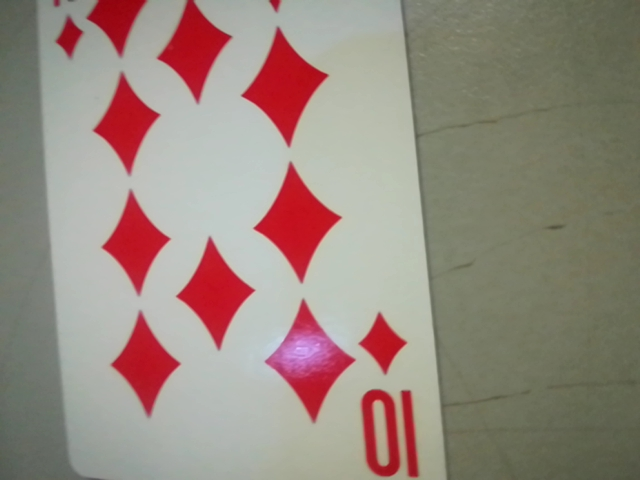fk 10: (347, 303, 432, 480)
